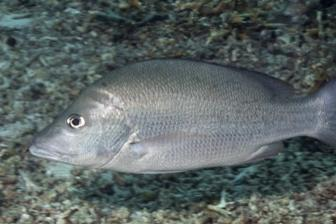Lutjanidae -Snappers-: (23, 38, 336, 180)
